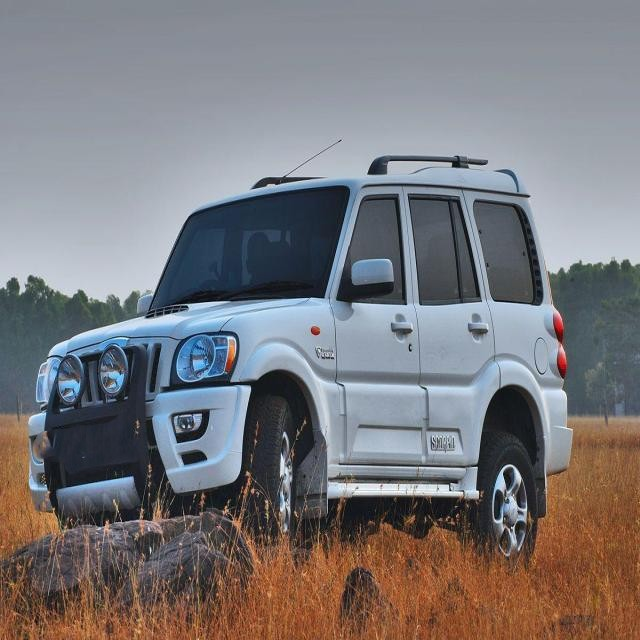car: (27, 152, 574, 564)
